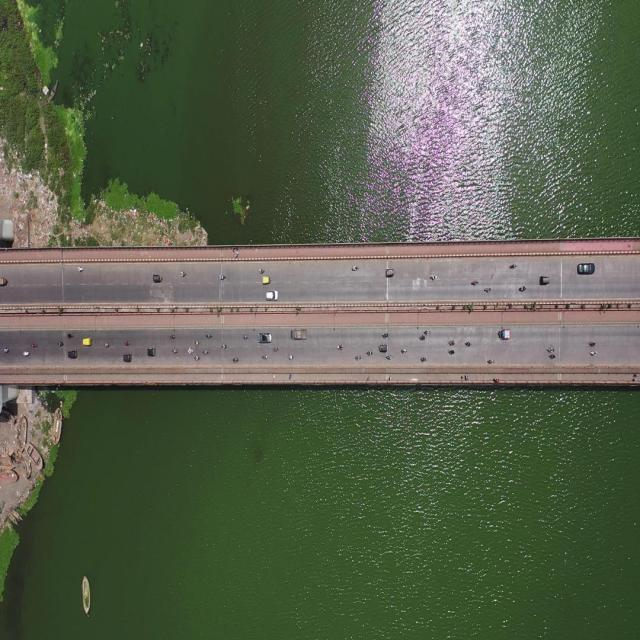3W: (79, 333, 98, 353), (0, 267, 12, 295), (383, 264, 398, 285), (537, 273, 553, 292), (150, 272, 165, 286), (262, 275, 274, 289), (377, 340, 389, 353), (400, 342, 410, 356), (420, 354, 429, 364), (418, 332, 426, 342)
Cars: (286, 322, 311, 345), (256, 328, 279, 347), (265, 289, 285, 307), (122, 350, 140, 368), (66, 346, 82, 366), (146, 339, 157, 358)
M2W: (588, 346, 604, 364), (20, 346, 33, 367), (31, 339, 45, 358), (192, 352, 205, 371), (238, 329, 250, 347), (100, 338, 112, 355), (543, 342, 559, 354), (231, 351, 242, 368), (217, 270, 229, 285), (186, 344, 196, 361), (487, 351, 497, 368), (484, 282, 494, 298), (166, 331, 178, 344), (258, 350, 270, 363), (506, 260, 518, 273), (586, 338, 599, 350), (177, 268, 189, 280), (256, 268, 272, 277), (77, 263, 88, 276), (471, 276, 480, 291), (66, 331, 78, 342), (518, 284, 529, 296), (549, 352, 560, 364), (273, 342, 282, 356), (354, 352, 363, 365), (172, 345, 179, 361), (1, 346, 11, 357), (201, 345, 210, 357), (286, 356, 298, 365), (446, 351, 458, 360), (220, 342, 230, 352), (381, 330, 391, 340), (205, 331, 214, 342), (447, 337, 458, 346), (350, 264, 360, 273), (424, 328, 434, 337), (428, 275, 438, 284), (123, 337, 131, 347), (337, 343, 344, 353), (366, 350, 373, 360), (192, 337, 202, 343), (386, 356, 394, 363), (464, 341, 473, 347)
Truck: (577, 258, 600, 288), (496, 328, 516, 344), (76, 268, 79, 271)
